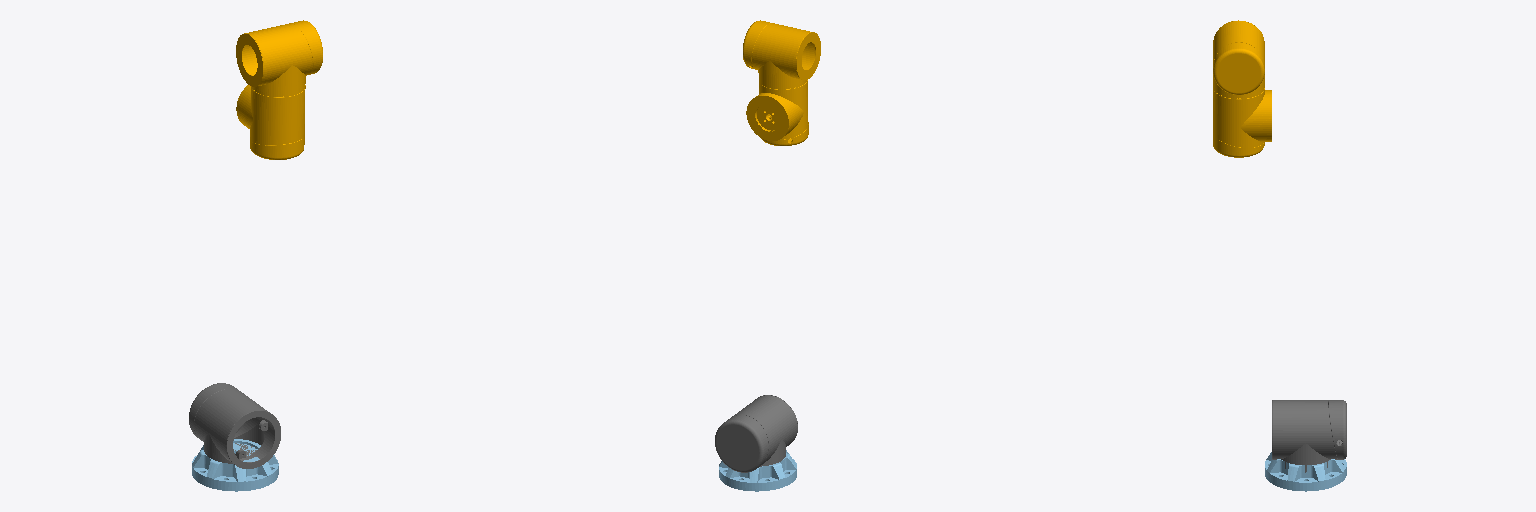
URDF robot description (robotic_arm):
<?xml version="1.0"?>
<robot name="robotic_arm">
<link name="base_link">
<visual>
<origin xyz="0.0024960130633573558712 0.12804634114627058694 -0.01108280622936548554" rpy="0 -0 0" />
<geometry>
<mesh filename="package://arm_desc/meshes/base_link.stl"/>
</geometry>
<material name="base_link_material">
<color rgba="0.61568627450980395466 0.81176470588235294379 0.92941176470588238168 1.0"/>
</material>
</visual>
<collision>
<origin xyz="0.0024960130633573558712 0.12804634114627058694 -0.01108280622936548554" rpy="0 -0 0" />
<geometry>
<mesh filename="package://arm_desc/meshes/base_link.stl"/>
</geometry>
</collision>
<inertial>
<origin xyz="0.0026174718339112084363 -0.0040148924014768716528 0.0049484920830945647308" rpy="0 0 0"/>
<mass value="0.1131732690462784463" />
<inertia ixx="9.856692962162541061e-05" ixy="6.0474343042231416637e-10"  ixz="1.5385565009010526225e-06" iyy="9.8537388460129794678e-05" iyz="2.9571407796833954483e-08" izz="0.0001786382600785708279" />
</inertial>
</link>

<link name="link_1">
<visual>
<origin xyz="0.058066221705191579938 -0.0010000035544516496996 0.035111317800536695488" rpy="-1.570796326794896558 -1.570796326794896558 0" />
<geometry>
<mesh filename="package://arm_desc/meshes/link_1.stl"/>
</geometry>
<material name="link_1_material">
<color rgba="0.49803921568627451677 0.49803921568627451677 0.49803921568627451677 1.0"/>
</material>
</visual>
<collision>
<origin xyz="0.058066221705191579938 -0.0010000035544516496996 0.035111317800536695488" rpy="-1.570796326794896558 -1.570796326794896558 0" />
<geometry>
<mesh filename="package://arm_desc/meshes/link_1.stl"/>
</geometry>
</collision>
<inertial>
<origin xyz="-0.0046815581201275560663 -3.350252841807224366e-06 0.024232949255673374989" rpy="0 0 0"/>
<mass value="0.080086465711985022065" />
<inertia ixx="0.00011439472559989889374" ixy="-1.0242629424710575339e-08"  ixz="5.1294106671647040892e-06" iyy="0.00010153371707618597843" iyz="3.0123150971127697935e-09" izz="9.4598706795031266151e-05" />
</inertial>
</link>

<link name="link_2">
<visual>
<origin xyz="0.058066756826188309359 0.00099999999999915933045 -0.043111317800536799738" rpy="1.570796326794896558 1.570796326794896558 0" />
<geometry>
<mesh filename="package://arm_desc/meshes/link_2.stl"/>
</geometry>
<material name="link_2_material">
<color rgba="0.98039215686274505668 0.71372549019607844922 0.0039215686274509803377 1.0"/>
</material>
</visual>
<collision>
<origin xyz="0.058066756826188309359 0.00099999999999915933045 -0.043111317800536799738" rpy="1.570796326794896558 1.570796326794896558 0" />
<geometry>
<mesh filename="package://arm_desc/meshes/link_2.stl"/>
</geometry>
</collision>
<inertial>
<origin xyz="0.1113556390516069472 1.2659493694219120519e-09 0.041180922428237384803" rpy="0 0 0"/>
<mass value="0.34014929780386427005" />
<inertia ixx="0.00032173805960381587606" ixy="-8.0176938346579620803e-11"  ixz="9.5203018742175472357e-07" iyy="0.0023827171157410368882" iyz="-1.8442351002073745675e-12" izz="0.0024099918968109521056" />
</inertial>
</link>

<link name="link_3">
<visual>
<origin xyz="-0.3889332431738120599 -0.0010000000000015309143 0.042111321354989406096" rpy="-1.570796326794896558 -1.570796326794896558 0" />
<geometry>
<mesh filename="package://arm_desc/meshes/link_3.stl"/>
</geometry>
<material name="link_3_material">
<color rgba="0.98039215686274505668 0.71372549019607844922 0.0039215686274509803377 1.0"/>
</material>
</visual>
<collision>
<origin xyz="-0.3889332431738120599 -0.0010000000000015309143 0.042111321354989406096" rpy="-1.570796326794896558 -1.570796326794896558 0" />
<geometry>
<mesh filename="package://arm_desc/meshes/link_3.stl"/>
</geometry>
</collision>
<inertial>
<origin xyz="-0.10832492980934992077 2.6923169470855625671e-05 0.039499194718111044211" rpy="0 0 0"/>
<mass value="0.31967748470292894902" />
<inertia ixx="0.00028140872177753425195" ixy="4.2487310578470514545e-07"  ixz="-0.00017337674379487602008" iyy="0.0024312861619251312402" iyz="-8.2724380357410980543e-09" izz="0.0023932480897531811792" />
</inertial>
</link>

<link name="link_4">
<visual>
<origin xyz="-0.38893324317381300359 0.0010000000000021103119 -0.043161592520954500385" rpy="1.570796326794896558 1.570796326794896558 0" />
<geometry>
<mesh filename="package://arm_desc/meshes/link_4.stl"/>
</geometry>
<material name="link_4_material">
<color rgba="0.98039215686274505668 0.71372549019607844922 0.0039215686274509803377 1.0"/>
</material>
</visual>
<collision>
<origin xyz="-0.38893324317381300359 0.0010000000000021103119 -0.043161592520954500385" rpy="1.570796326794896558 1.570796326794896558 0" />
<geometry>
<mesh filename="package://arm_desc/meshes/link_4.stl"/>
</geometry>
</collision>
<inertial>
<origin xyz="-0.0063134084365573106545 -4.1715671044378378751e-05 0.032316899623642203476" rpy="0 0 0"/>
<mass value="0.095178714940116454502" />
<inertia ixx="9.9208805832435477813e-05" ixy="-7.2909475073240143536e-08"  ixz="8.6738950255301555198e-06" iyy="0.00012486179767824879443" iyz="-1.5771532401003181864e-08" izz="0.00010870685746829237335" />
</inertial>
</link>

<link name="link_5">
<visual>
<origin xyz="0.085161592520954398911 0.0010125586032828232108 -0.42993324317381198529" rpy="1.570796326794896558 1.3040595762004301237e-18 6.4830711884908311151e-22" />
<geometry>
<mesh filename="package://arm_desc/meshes/link_5.stl"/>
</geometry>
<material name="link_5_material">
<color rgba="0.98039215686274505668 0.71372549019607844922 0.0039215686274509803377 1.0"/>
</material>
</visual>
<collision>
<origin xyz="0.085161592520954398911 0.0010125586032828232108 -0.42993324317381198529" rpy="1.570796326794896558 1.3040595762004301237e-18 6.4830711884908311151e-22" />
<geometry>
<mesh filename="package://arm_desc/meshes/link_5.stl"/>
</geometry>
</collision>
<inertial>
<origin xyz="0.0063173930940050998517 -1.5991599702916154541e-05 0.032316925865712553545" rpy="0 0 0"/>
<mass value="0.095178710281144468519" />
<inertia ixx="9.9208799430564826379e-05" ixy="5.9725984991816655986e-08"  ixz="-8.6777151419389535132e-06" iyy="0.00012482622378922315584" iyz="-3.8040866501322656934e-08" izz="0.00010867121720011838168" />
</inertial>
</link>

<joint name="joint_5" type="revolute">
<origin xyz="0.040999999999999203748 -1.2558603280719404099e-05 0.041999999999999801381" rpy="-1.57079632679489678 -1.3881895319257544894e-16 -1.570796326794896558" />
<parent link="link_4" />
<child link="link_5" />
<axis xyz="0 0 1"/>
<limit effort="1" velocity="20" lower="-1.57" upper="1.57"/>
<joint_properties friction="0.0"/>
</joint>

<joint name="joint_4" type="revolute">
<origin xyz="-0.22099999999999997424 -4.7748263676261615274e-16 -2.0122792321330962295e-16" rpy="-3.1415926535897797933 1.6514832745936422549e-14 3.1415926535897904515" />
<parent link="link_3" />
<child link="link_4" />
<axis xyz="0 0 1"/>
<limit effort="1" velocity="20" lower="-1.57" upper="1.57"/>
<joint_properties friction="0.0"/>
</joint>

<joint name="joint_3" type="revolute">
<origin xyz="0.22600000000000031175 -1.6093897048374827818e-15 3.5544528015352128136e-09" rpy="-3.1415926535897842342 4.2771596214354794764e-15 3.1415926535897913396" />
<parent link="link_2" />
<child link="link_3" />
<axis xyz="0 0 1"/>
<limit effort="1" velocity="20" lower="-1.57" upper="1.57"/>
<joint_properties friction="0.0"/>
</joint>

<joint name="joint_2" type="revolute">
<origin xyz="-0.043800535120997539928 -0.00017721450937848055862 0.035099745291068740194" rpy="1.8403916892873062454e-17 -1.570796326794896558 0" />
<parent link="link_1" />
<child link="link_2" />
<axis xyz="0 0 1"/>
<limit effort="1" velocity="20" lower="-1.57" upper="1.57"/>
<joint_properties friction="0.0"/>
</joint>

<joint name="joint_1" type="revolute">
<origin xyz="0.0029030429781492428018 -0.0040093955121447213963 0.016911150880017183917" rpy="0.019200131903186444526 0.0003688037187457633855 1.570796326794896558" />
<parent link="base_link" />
<child link="link_1" />
<axis xyz="0 0 1"/>
<limit effort="1" velocity="20" lower="-1.57" upper="1.57"/>
<joint_properties friction="0.0"/>
</joint>


</robot>

--- Facts derived from the render (not from the file) ---
The picture shows the robot from 3 angles, left to right: view 1: azimuth 30°, elevation 25°; view 2: azimuth 150°, elevation 25°; view 3: azimuth 270°, elevation 25°; orthographic projection.
Model robotic_arm with 6 links and 5 joints (5 revolute), rooted at base_link, posed all joints at 0.
Links seen in each view (by area): view 1: link_1, link_5, link_4, base_link; view 2: link_1, link_5, link_4, base_link; view 3: link_1, link_5, link_4, base_link.
Boxes of the visible links, box(x1,y1,x2,y2) form: link_1: box(189, 383, 280, 468); link_5: box(236, 20, 322, 96); link_4: box(236, 85, 305, 159); base_link: box(192, 439, 278, 491); link_1: box(715, 395, 797, 472); link_5: box(743, 20, 820, 88); link_4: box(746, 80, 808, 145); base_link: box(719, 450, 796, 491); link_1: box(1272, 400, 1346, 472); link_5: box(1213, 20, 1264, 98); link_4: box(1213, 88, 1271, 157); base_link: box(1265, 452, 1346, 491).
Bounding box of the posed robot: 0.1098 × 0.1711 × 0.6268 m (x, y, z).
Meshes: 6 distinct files referenced, 4 mesh visuals loaded (4 binary STL); not drawn: 2 (reference not matched to a file when rendering).